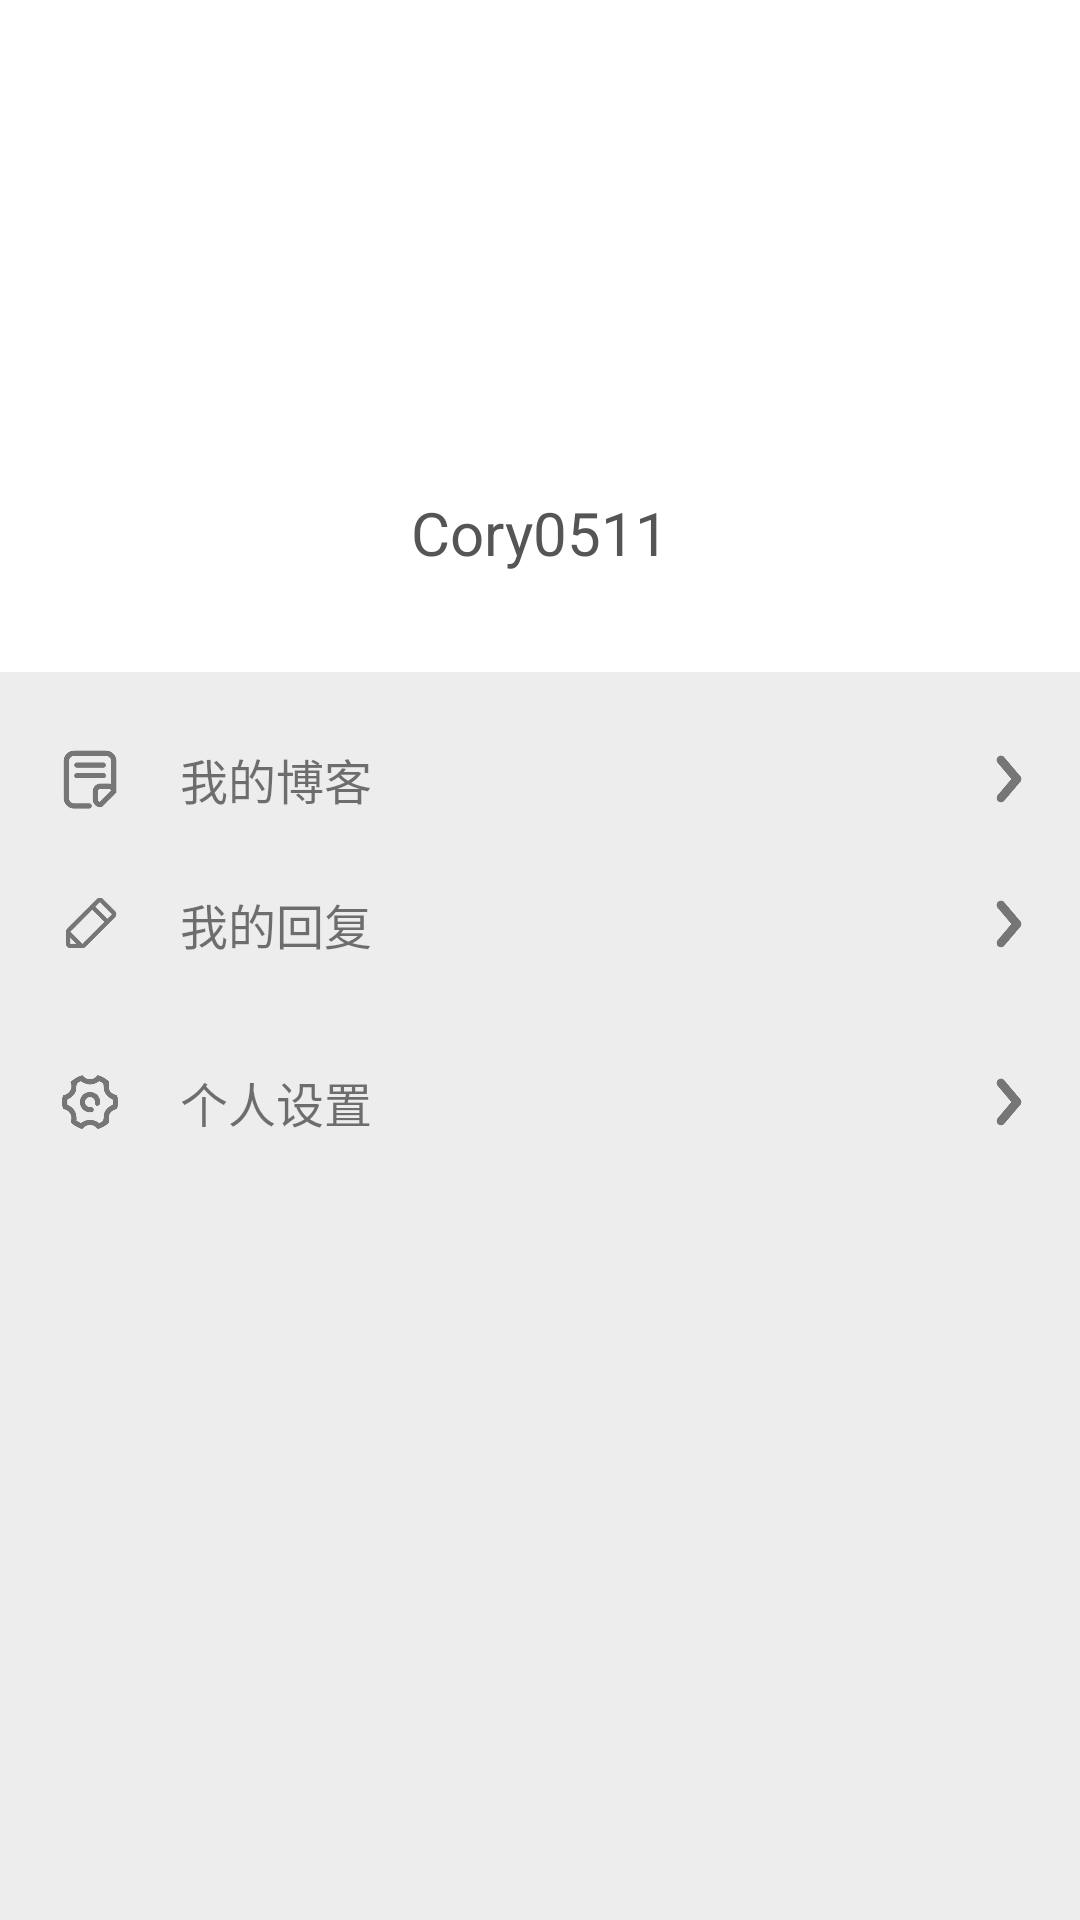

Where icons sit on this 1080 x 1920 app screen, as bbox=(x1, y1, x2, y2):
arrow right: bbox=(996, 755, 1022, 802), bbox=(996, 900, 1022, 947), bbox=(996, 1078, 1022, 1125)
post: bbox=(64, 750, 117, 809)
setting: bbox=(62, 1075, 118, 1129)
